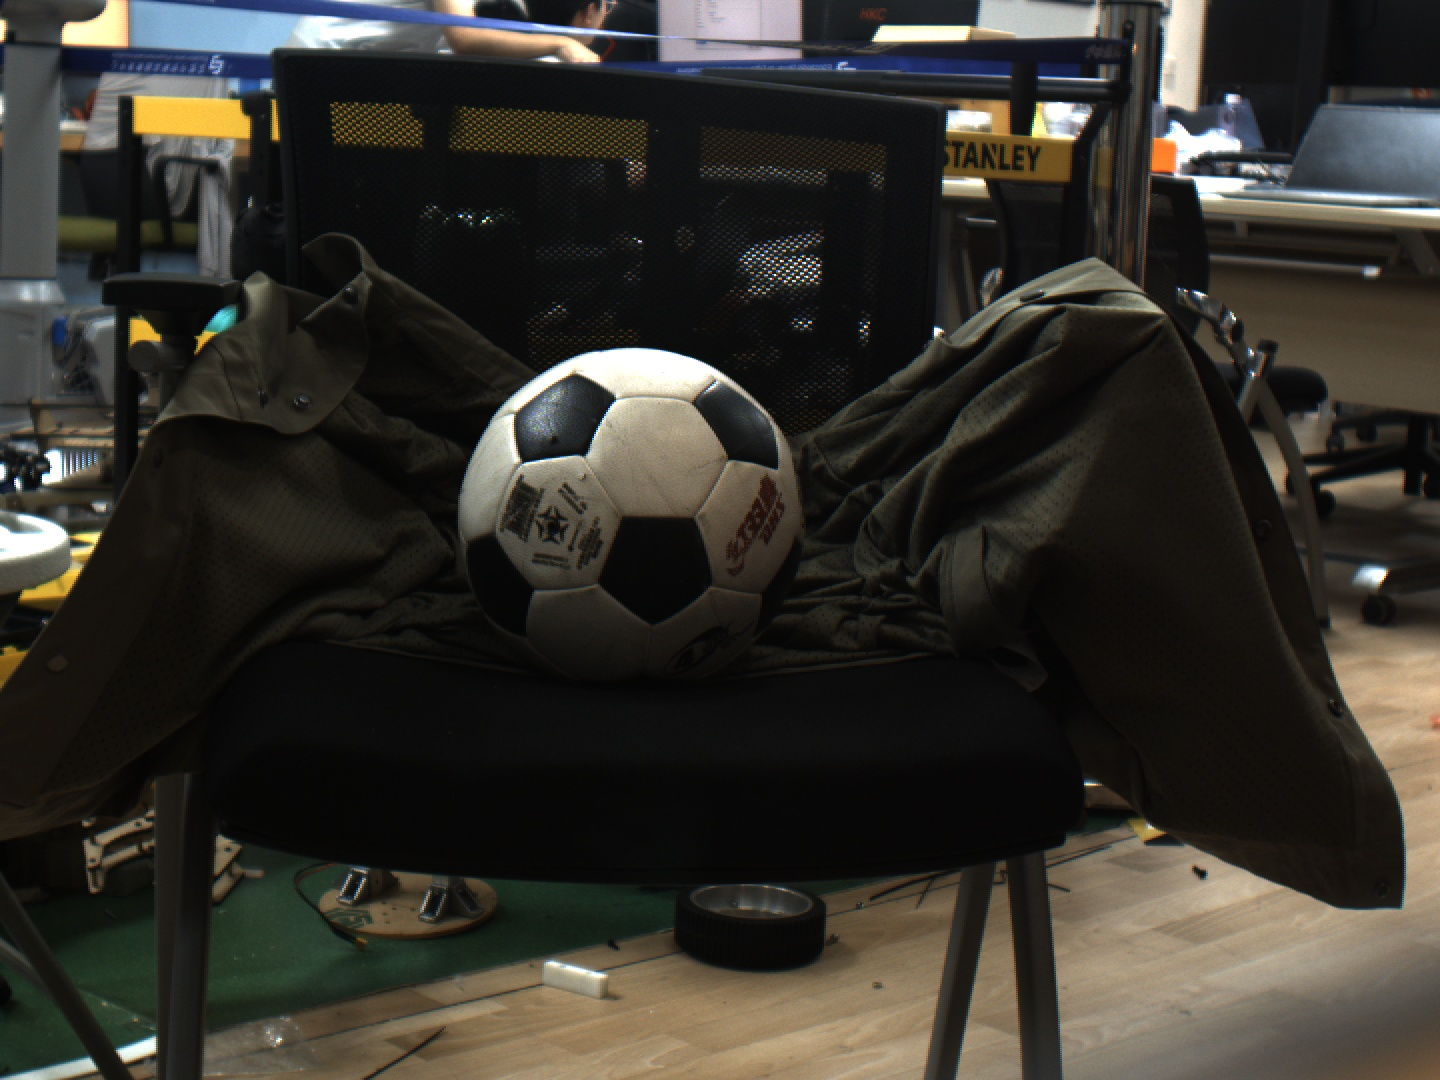ball: (422, 293, 845, 687)
